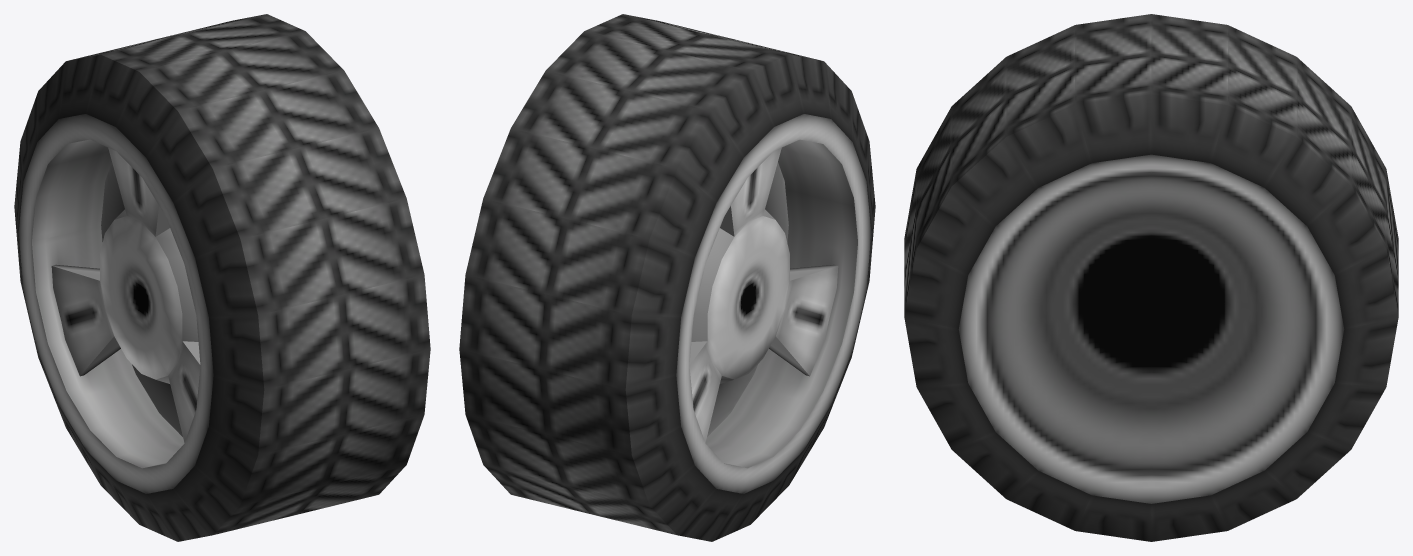
Rendered from Wheel4.fbx.
3 renders of one model, left to right at view 1: azimuth 30°, elevation 25°; view 2: azimuth 150°, elevation 25°; view 3: azimuth 270°, elevation 25°, orthographic.
Parts seen in each view (by area): view 1: Empty_Mesh; view 2: Empty_Mesh; view 3: Empty_Mesh.
Boxes of the visible parts, left/top/right/bottom form: Empty_Mesh: left=14, top=14, right=430, bottom=541; Empty_Mesh: left=459, top=14, right=875, bottom=541; Empty_Mesh: left=904, top=14, right=1398, bottom=541.
Size of the model in its own units: 28.44 by 57.89 by 57.89.
